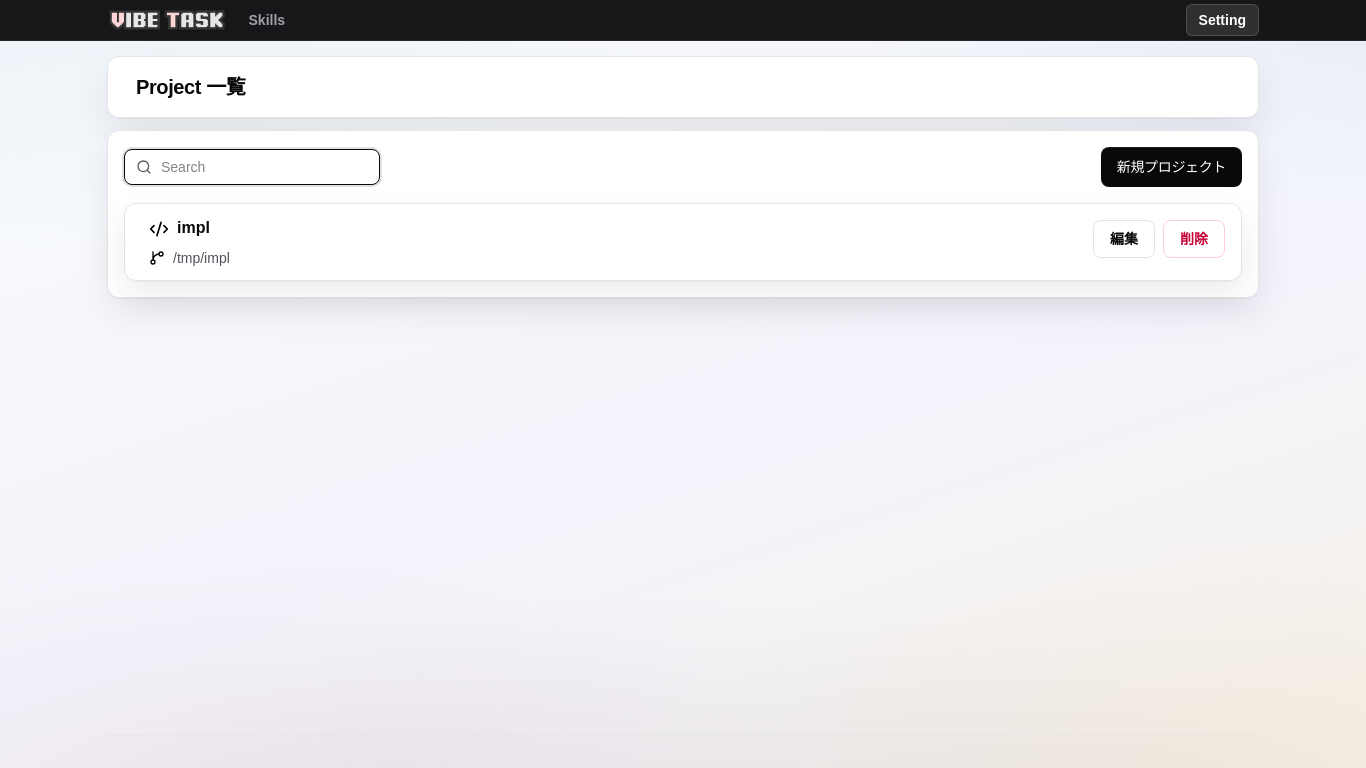
Scenario: deletes a project from the top page card
Expected: the text "impl" is shown, top-left (177, 216), bottom-right (210, 240)
What coordinates should you click on to do the following:
click the button "削除"
I would click on:
 (1194, 239)
Its box is top-left (1163, 220), bottom-right (1225, 258).
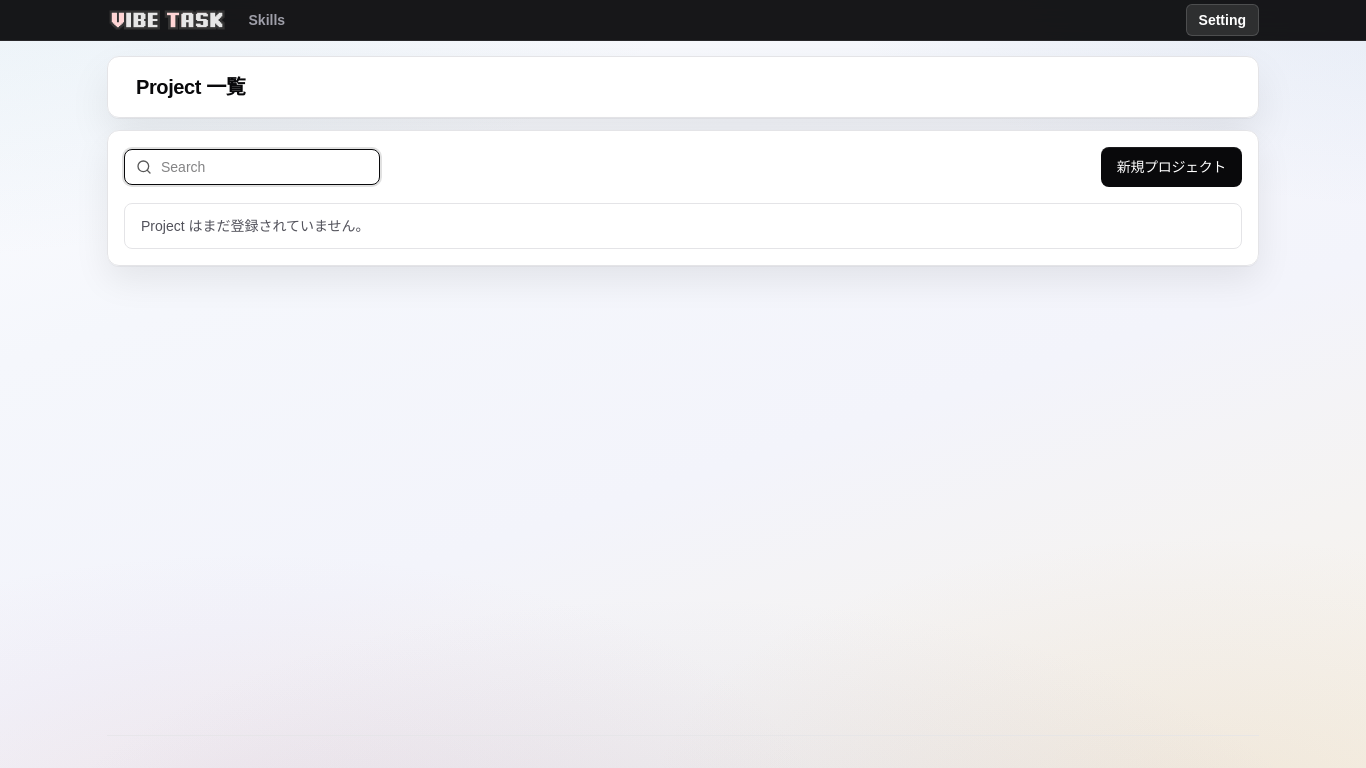
Now the text "Project はまだ登録されていません。" is shown, box top-left (124, 203), bottom-right (1242, 249)
